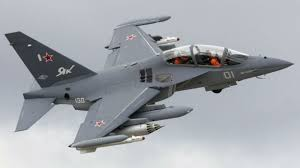maybay_muctieu: (7, 21, 292, 145)
